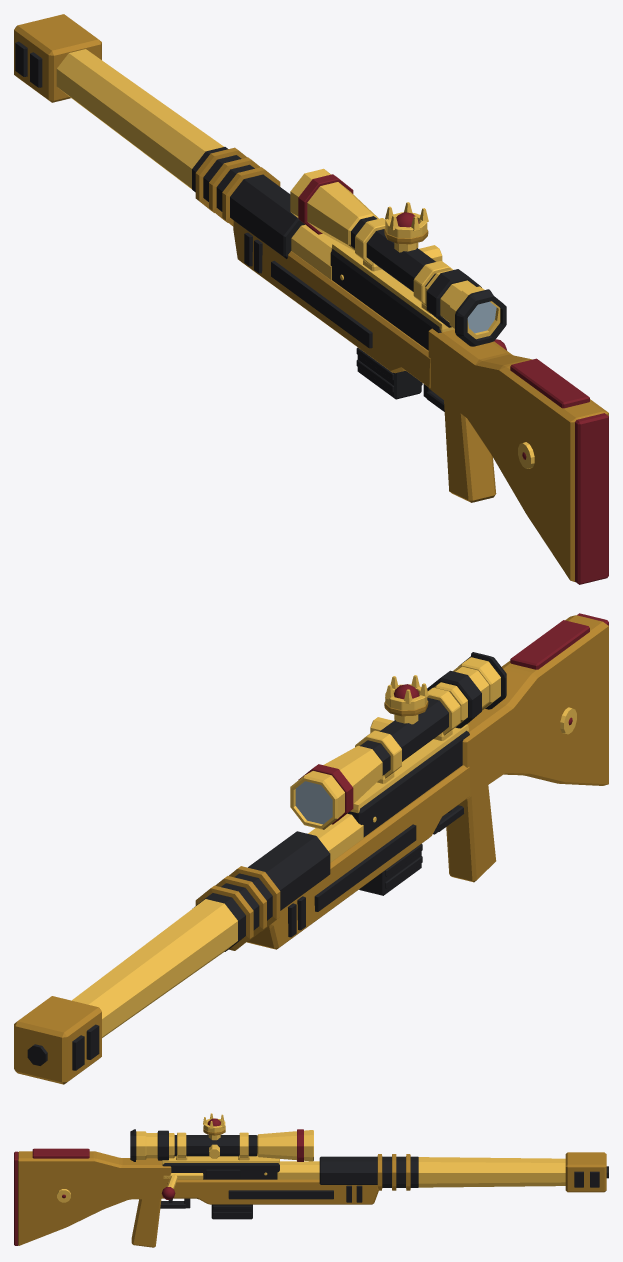
Rendered from w_sniper@sniper_golden.glb.
The picture shows the model from 3 angles, top to bottom: view 1: azimuth 30°, elevation 25°; view 2: azimuth 150°, elevation 25°; view 3: azimuth 270°, elevation 25°; orthographic projection. The views are drawn at different scales.
Visible parts, largest first — view 1: stock_wzA, barrel_wzB.001, scope_wzN.001, stock_wzB, barrel_wzB, scope_wzN, barrel_wzB.002, body_wzB, barrel_wzN, stock_wzN, stock_wzN.001, mag_wzB (+4 smaller); view 2: stock_wzA, barrel_wzB.001, scope_wzN.001, barrel_wzB.002, barrel_wzB, scope_wzN, body_wzB, barrel_wzN, stock_wzN, stock_wzN.001, deck_wzB, mag_wzB (+4 smaller); view 3: stock_wzA, barrel_wzB.001, scope_wzN.001, barrel_wzB, scope_wzN, barrel_wzB.002, body_wzB, stock_wzN, trim_wzN, mag_wzB, deck_wzB, stock_wzN.001 (+7 smaller).
Part boxes in pixels (x1,y1,x2,y2): stock_wzA: [233, 221, 608, 581]; barrel_wzB.001: [56, 49, 338, 279]; scope_wzN.001: [290, 168, 500, 339]; stock_wzB: [575, 413, 608, 584]; barrel_wzB: [192, 147, 304, 258]; scope_wzN: [351, 216, 506, 346]; barrel_wzB.002: [14, 14, 101, 102]; body_wzB: [330, 249, 441, 350]; barrel_wzN: [195, 147, 280, 226]; stock_wzN: [271, 260, 372, 348]; stock_wzN.001: [510, 358, 589, 459]; mag_wzB: [356, 347, 422, 399]; stock_wzA: [246, 615, 608, 949]; barrel_wzB.001: [72, 813, 363, 1037]; scope_wzN.001: [290, 657, 500, 829]; barrel_wzB.002: [14, 996, 101, 1084]; barrel_wzB: [192, 831, 330, 951]; scope_wzN: [360, 652, 506, 775]; body_wzB: [347, 730, 469, 837]; barrel_wzN: [195, 866, 280, 950]; stock_wzN: [314, 824, 416, 911]; stock_wzN.001: [510, 620, 589, 725]; deck_wzB: [350, 724, 468, 813]; mag_wzB: [359, 844, 422, 895]; stock_wzA: [18, 1151, 378, 1247]; barrel_wzB.001: [277, 1157, 565, 1187]; scope_wzN.001: [136, 1130, 313, 1161]; barrel_wzB: [319, 1156, 418, 1187]; scope_wzN: [130, 1129, 257, 1161]; barrel_wzB.002: [565, 1152, 606, 1192]; body_wzB: [162, 1163, 279, 1179]; stock_wzN: [228, 1190, 333, 1199]; trim_wzN: [206, 1166, 608, 1187]; mag_wzB: [211, 1204, 252, 1219]; deck_wzB: [162, 1156, 279, 1164]; stock_wzN.001: [32, 1148, 89, 1198].
Bounding box in the file's own units: 0.1868 × 0.4952 × 2.09.
